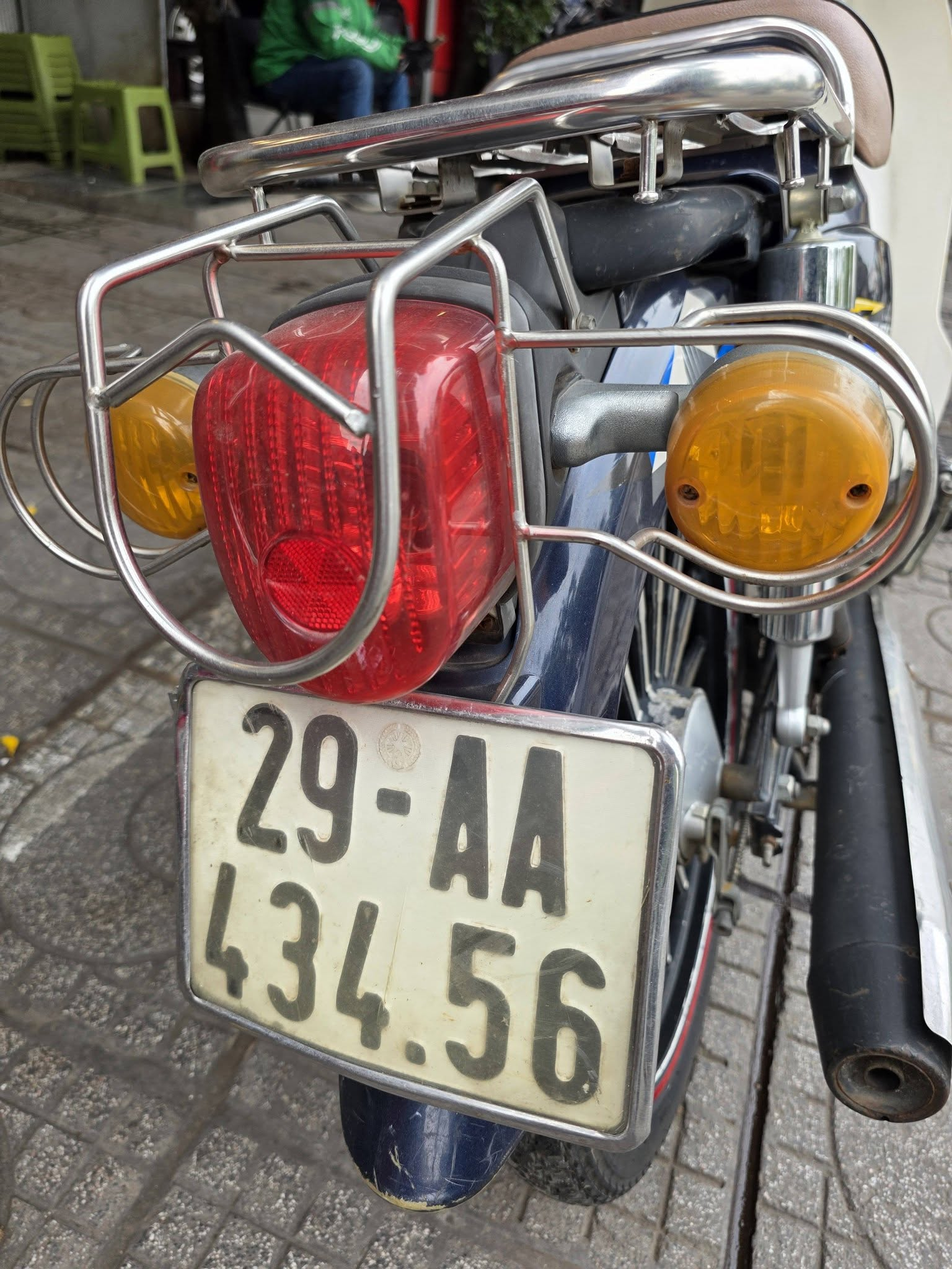bien_so: (146, 652, 713, 1163)
